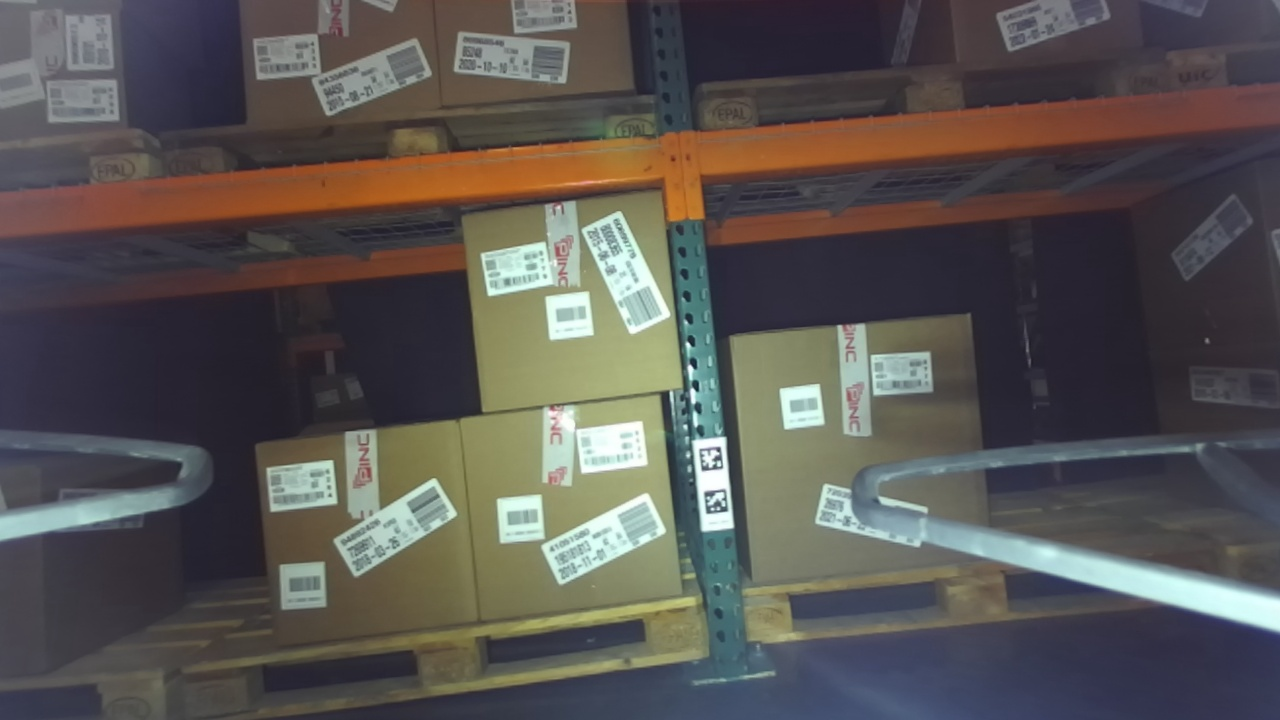box: (712, 310, 1007, 597), (236, 392, 492, 659), (442, 376, 697, 640), (440, 175, 691, 417)
